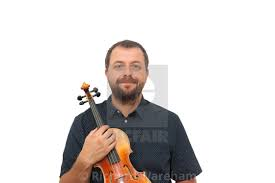white_male: (107, 45, 149, 100)
